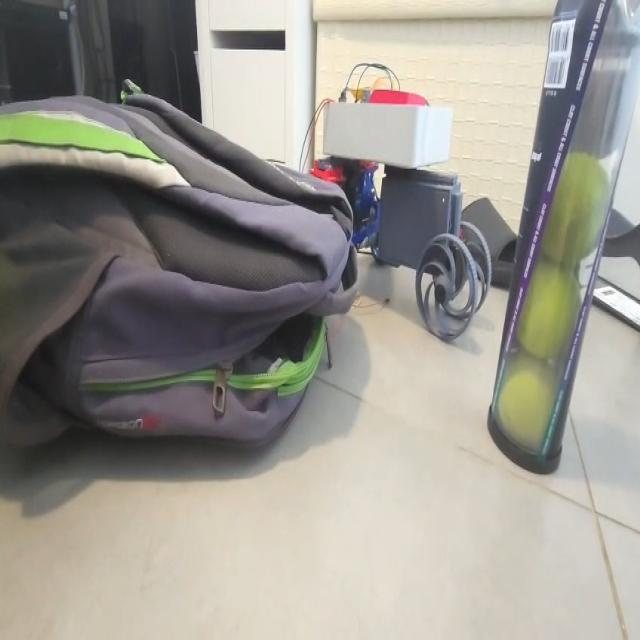Robot: (308, 85, 493, 342)
